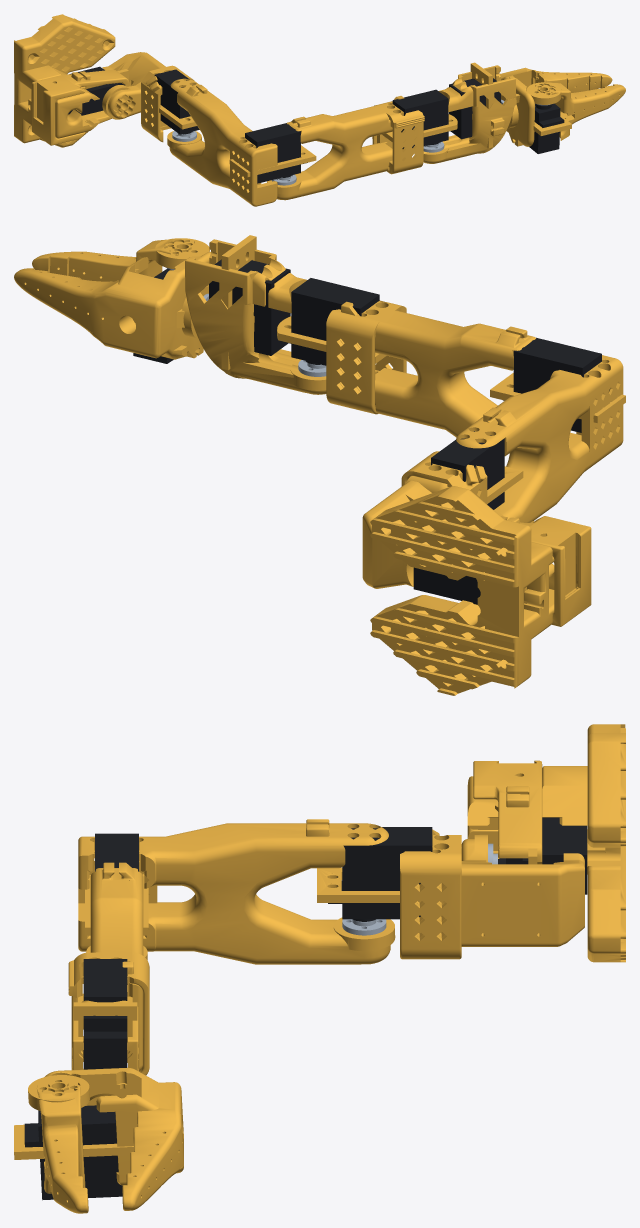
File: follower.glb
3 renders of one model, top to bottom at view 1: azimuth 30°, elevation 25°; view 2: azimuth 150°, elevation 25°; view 3: azimuth 270°, elevation 25°, orthographic. The views are drawn at different scales.
Parts seen in each view (by area): view 1: follower_base_link:follower_print, follower_lower_arm_link:follower_print, follower_upper_arm_link:follower_print, follower_wrist_link:follower_print, follower_shoulder_link:follower_print, follower_gripper_link:follower_print, follower_moving_jaw_so101_v1_link:follower_print, follower_upper_arm_link:servo, follower_lower_arm_link:servo, follower_shoulder_link:servo, follower_gripper_link:servo, follower_wrist_link:servo (+1 smaller); view 2: follower_base_link:follower_print, follower_lower_arm_link:follower_print, follower_upper_arm_link:follower_print, follower_wrist_link:follower_print, follower_gripper_link:follower_print, follower_shoulder_link:follower_print, follower_moving_jaw_so101_v1_link:follower_print, follower_lower_arm_link:servo, follower_upper_arm_link:servo, follower_wrist_link:servo, follower_shoulder_link:servo, follower_base_link:servo; view 3: follower_upper_arm_link:follower_print, follower_shoulder_link:follower_print, follower_base_link:follower_print, follower_gripper_link:follower_print, follower_lower_arm_link:follower_print, follower_moving_jaw_so101_v1_link:follower_print, follower_shoulder_link:servo, follower_gripper_link:servo, follower_wrist_link:servo, follower_wrist_link:follower_print, follower_base_link:servo, follower_lower_arm_link:servo (+1 smaller).
Boxes of the visible parts, x1,y1,x2,y2 form: follower_base_link:follower_print: (14,14,128,147); follower_lower_arm_link:follower_print: (267,96,457,200); follower_upper_arm_link:follower_print: (167,78,316,206); follower_wrist_link:follower_print: (414,62,519,163); follower_shoulder_link:follower_print: (102,52,196,142); follower_gripper_link:follower_print: (500,67,612,146); follower_moving_jaw_so101_v1_link:follower_print: (526,82,625,140); follower_upper_arm_link:servo: (245,123,307,183); follower_lower_arm_link:servo: (392,89,454,148); follower_shoulder_link:servo: (154,69,199,134); follower_gripper_link:servo: (529,103,564,153); follower_wrist_link:servo: (449,78,500,139); follower_base_link:follower_print: (370,486,591,695); follower_lower_arm_link:follower_print: (277,300,535,437); follower_upper_arm_link:follower_print: (456,355,625,522); follower_wrist_link:follower_print: (185,235,326,394); follower_gripper_link:follower_print: (14,252,210,359); follower_shoulder_link:follower_print: (362,451,523,588); follower_moving_jaw_so101_v1_link:follower_print: (32,238,209,281); follower_lower_arm_link:servo: (280,278,379,365); follower_upper_arm_link:servo: (503,337,601,432); follower_wrist_link:servo: (209,259,290,355); follower_shoulder_link:servo: (431,431,504,509); follower_base_link:servo: (413,567,480,604); follower_upper_arm_link:follower_print: (78,819,395,964); follower_shoulder_link:follower_print: (317,829,584,959); follower_base_link:follower_print: (467,724,625,962); follower_gripper_link:follower_print: (14,1067,183,1210); follower_lower_arm_link:follower_print: (68,862,149,1075); follower_moving_jaw_so101_v1_link:follower_print: (28,1075,89,1213); follower_shoulder_link:servo: (328,827,432,921); follower_gripper_link:servo: (24,1105,122,1200); follower_wrist_link:servo: (83,1015,127,1069); follower_wrist_link:follower_print: (71,1000,139,1071); follower_base_link:servo: (498,817,587,894); follower_lower_arm_link:servo: (83,959,127,1002).
Size of the model in its own units: 434 by 111 by 278.
